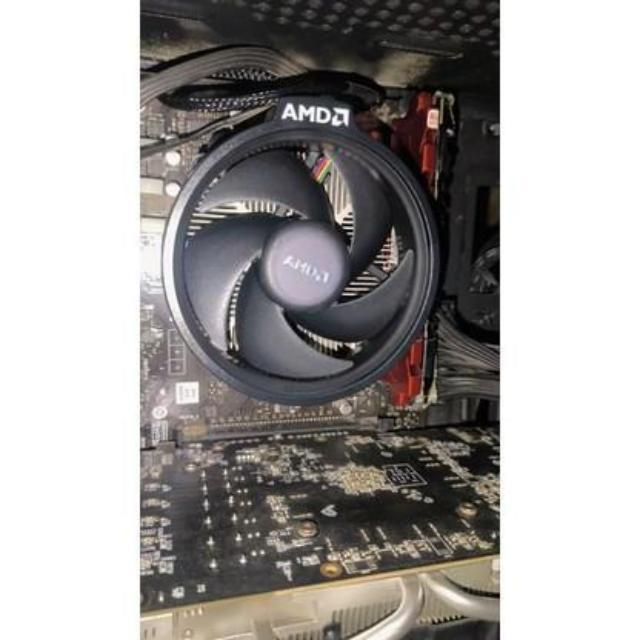CPU_Fan: (164, 95, 436, 403)
